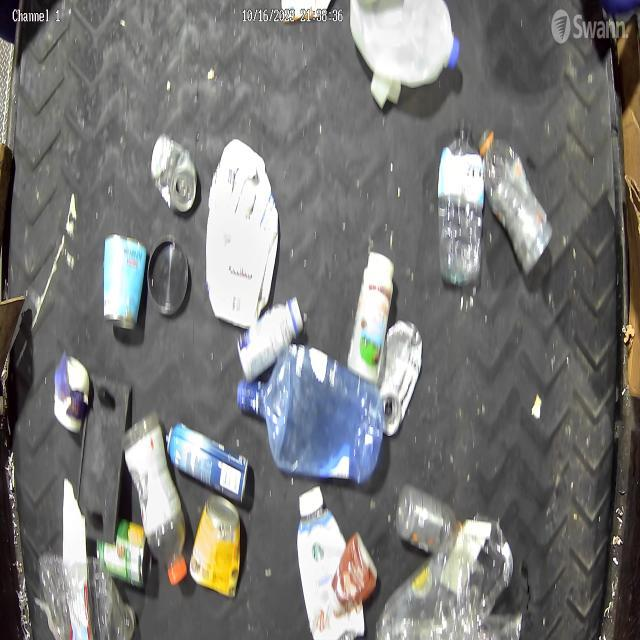can: (377, 318, 424, 438), (188, 494, 242, 598), (102, 232, 148, 329), (96, 518, 152, 593), (150, 132, 198, 214)
milk_jug: (206, 137, 280, 329), (349, 0, 461, 88)
plastic_bottle: (121, 408, 187, 588), (477, 125, 555, 276), (37, 551, 136, 640), (436, 118, 485, 288)
